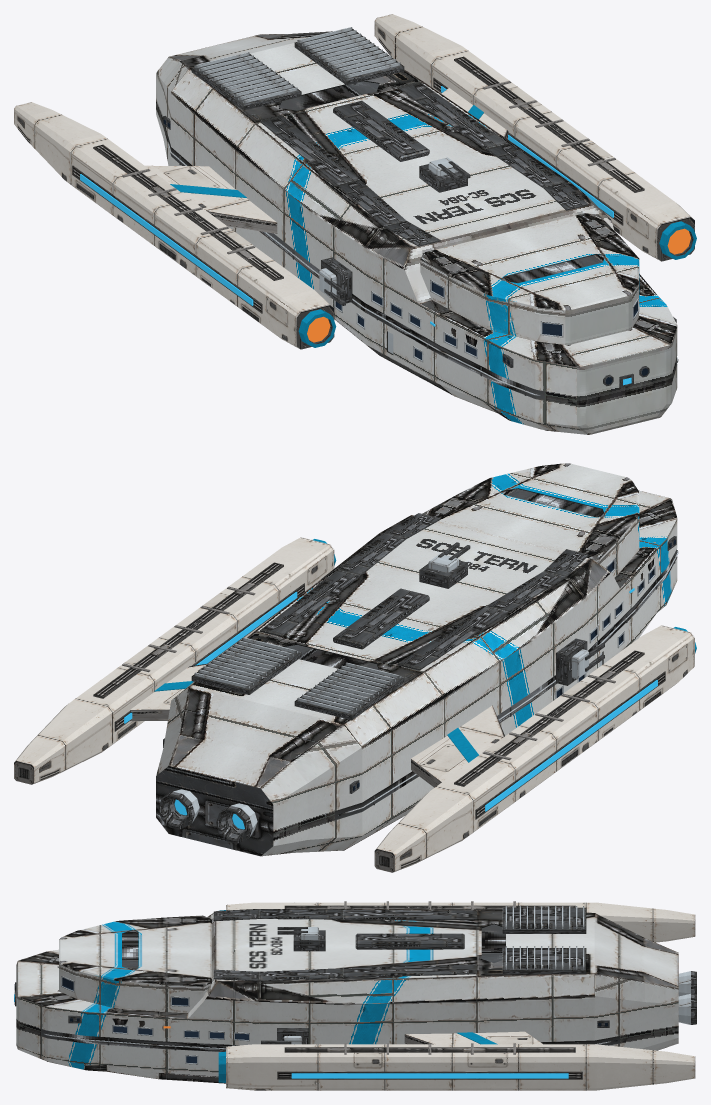
Rendered from tern.glb.
3 renders of one model, top to bottom at view 1: azimuth 30°, elevation 25°; view 2: azimuth 150°, elevation 25°; view 3: azimuth 270°, elevation 25°, orthographic. The views are drawn at different scales.
Parts seen in each view (by area): view 1: tern; view 2: tern; view 3: tern.
Boxes of the visible parts, x1,y1,x2,y2 form: tern: [14, 14, 696, 434]; tern: [14, 463, 696, 872]; tern: [14, 901, 696, 1090].
Bounding box in the file's own units: 45 × 18.04 × 81.47.
7 materials, 5 textured.
